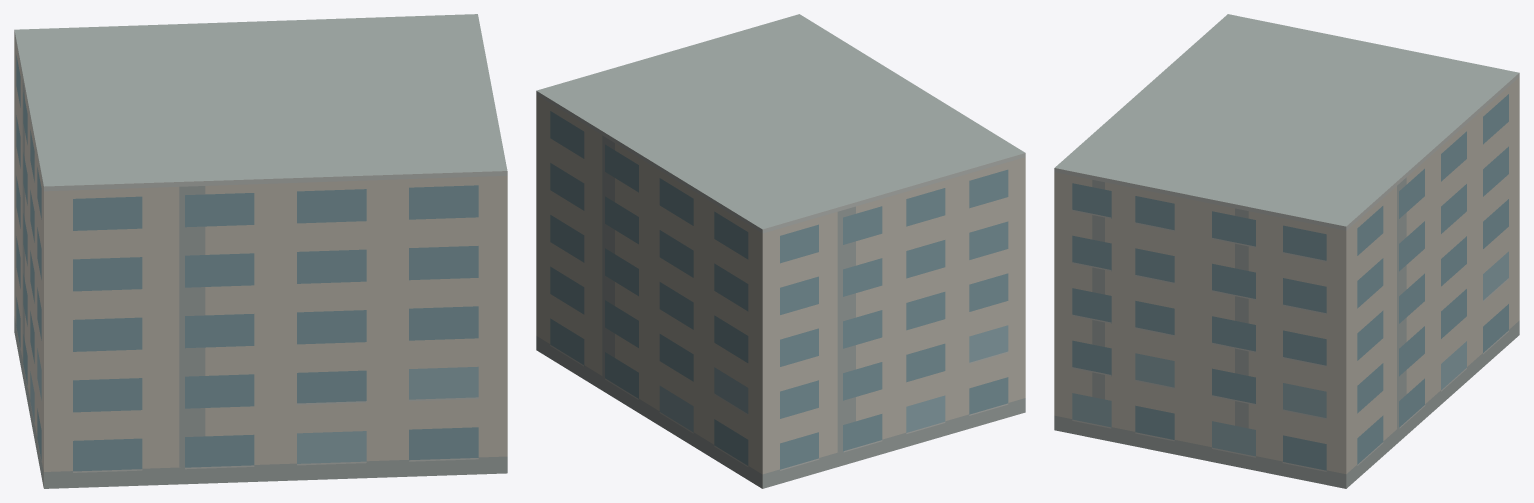
Rendered from residential-eac0fd16-3093-49f2-8e8f-c81a66aa9fe8.glb.
3 views of the same model, side by side, from view 1: azimuth 30°, elevation 25°; view 2: azimuth 150°, elevation 25°; view 3: azimuth 270°, elevation 25° (orthographic). The views are drawn at different scales.
Parts seen in each view (by area): view 1: residential-eac0fd16-3093-49f2-8e8f-c81a66aa9fe8.tmp; view 2: residential-eac0fd16-3093-49f2-8e8f-c81a66aa9fe8.tmp; view 3: residential-eac0fd16-3093-49f2-8e8f-c81a66aa9fe8.tmp.
Part boxes in pixels (x1,y1,x2,y2): residential-eac0fd16-3093-49f2-8e8f-c81a66aa9fe8.tmp: (14, 14, 507, 488); residential-eac0fd16-3093-49f2-8e8f-c81a66aa9fe8.tmp: (536, 14, 1025, 488); residential-eac0fd16-3093-49f2-8e8f-c81a66aa9fe8.tmp: (1054, 14, 1519, 488).
Bounding box in the file's own units: 26.51 × 15.25 × 24.51.
